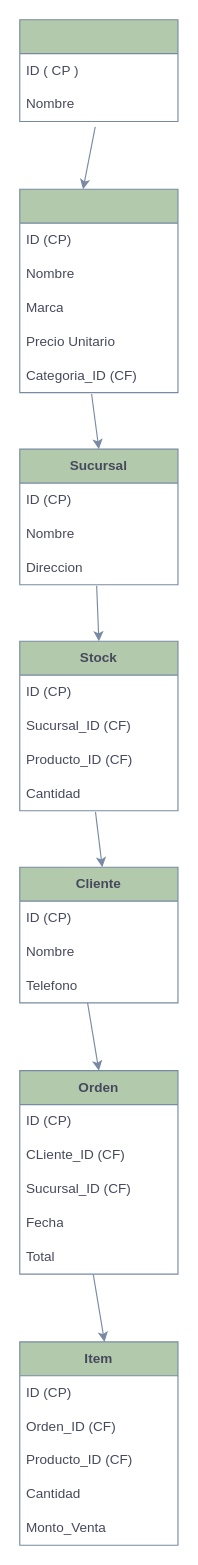
The diagram is 198 pixels wide and 1565 high, and some of its shapes have lost their labels. Each missing label, with the box of its shape:
Categoria: (19, 19, 178, 121)
Producto: (19, 188, 178, 393)
